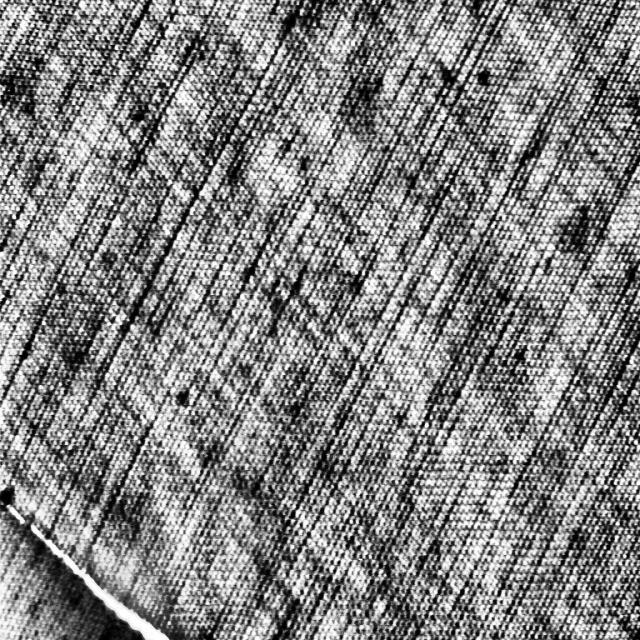Hole: (0, 482, 173, 638)
